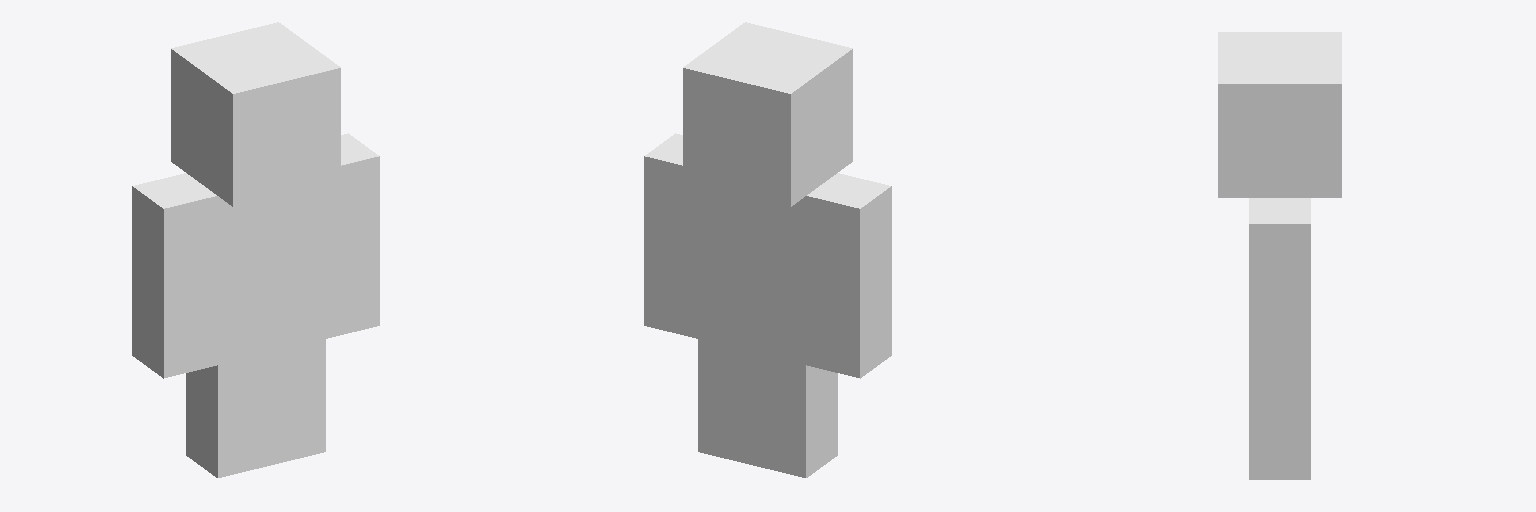
Rendered from notcool.obj.
3 views of the same model, side by side, from view 1: azimuth 30°, elevation 25°; view 2: azimuth 150°, elevation 25°; view 3: azimuth 270°, elevation 25° (orthographic).
Visible parts, largest first — view 1: object 1; view 2: object 1; view 3: object 1.
Boxes of the visible parts, x1=… form: object 1: x1=132, y1=22, x2=379, y2=477; object 1: x1=644, y1=22, x2=891, y2=477; object 1: x1=1218, y1=32, x2=1341, y2=479.
Bounding box in the file's own units: 1.6 × 2.8 × 0.8.